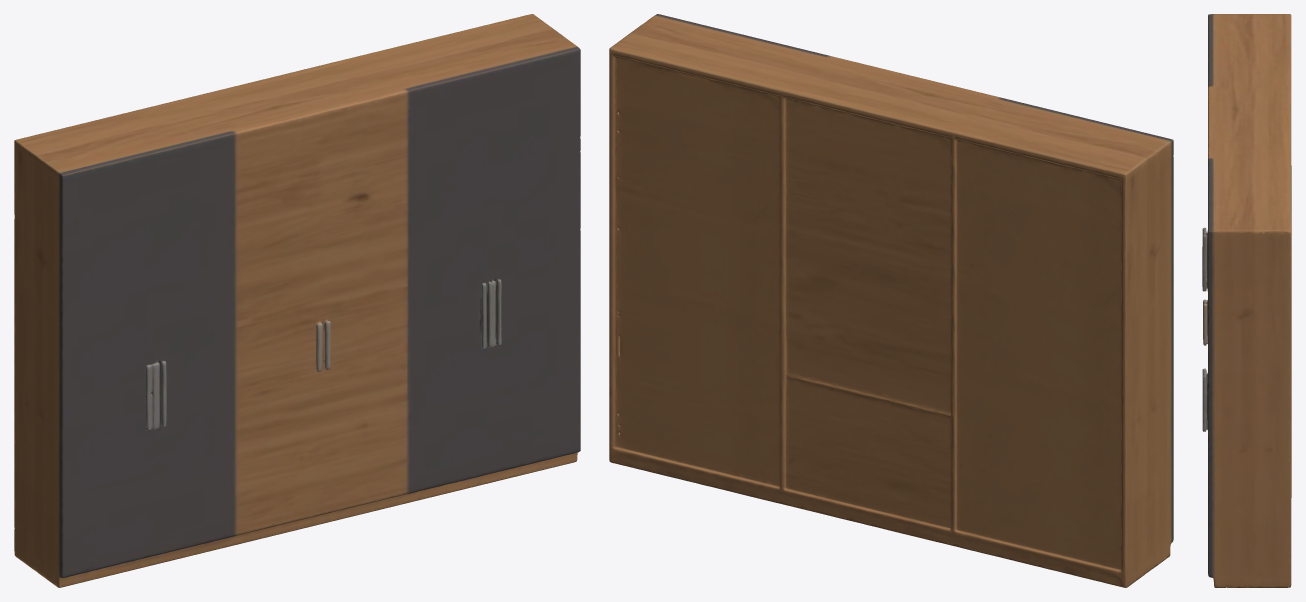
File: 3 door wardrobe.glb
The picture shows the model from 3 angles, left to right: view 1: azimuth 30°, elevation 25°; view 2: azimuth 150°, elevation 25°; view 3: azimuth 270°, elevation 25°; orthographic projection. The views are drawn at different scales.
Visible parts, largest first — view 1: world; view 2: world; view 3: world.
Part boxes in pixels (x1,y1,x2,y2): world: (14,14,580,587); world: (609,14,1173,587); world: (1202,14,1291,587).
Size of the model in its own units: 1 by 0.7693 by 0.1738.
Materials: 1 (1 with a texture image).
